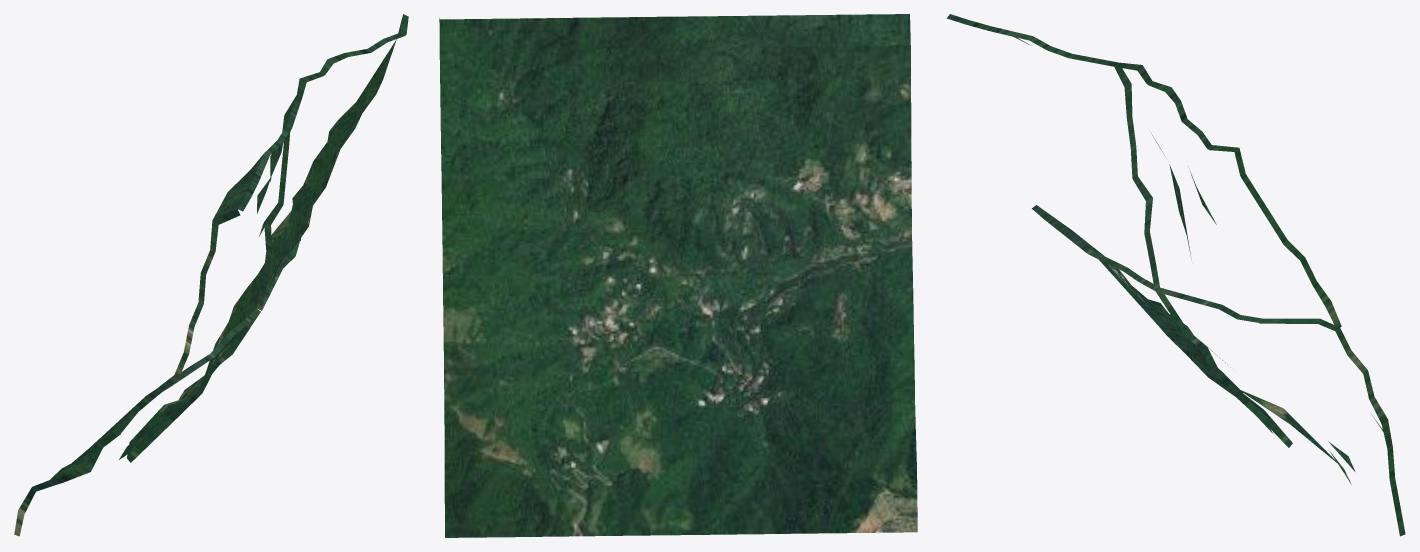
The picture shows the model from 3 angles, left to right: view 1: azimuth 30°, elevation 25°; view 2: azimuth 150°, elevation 25°; view 3: azimuth 270°, elevation 25°; orthographic projection. The views are drawn at different scales.
Size of the model in its own units: 2449 by 2302 by 2183.
Materials: 1 (1 with a texture image).
